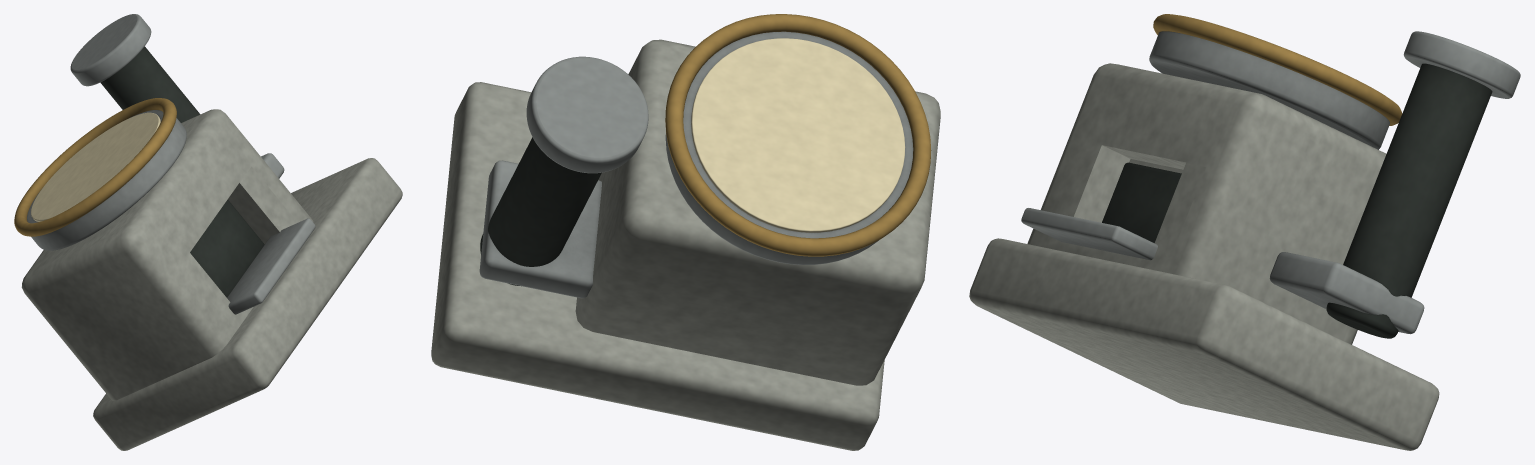
3 views of the same model, side by side, from view 1: azimuth 30°, elevation 25°; view 2: azimuth 150°, elevation 25°; view 3: azimuth 270°, elevation 25° (orthographic). The views are drawn at different scales.
Visible parts, largest first — view 1: Masonry calcifier plinth; view 2: Masonry calcifier plinth; view 3: Masonry calcifier plinth.
Boxes of the visible parts, <box> form: Masonry calcifier plinth: <box>14,14,402,450</box>; Masonry calcifier plinth: <box>431,14,940,450</box>; Masonry calcifier plinth: <box>969,14,1520,450</box>.
Bounding box in the file's own units: 1.59 × 1.4 × 1.6.
Materials: 1 (1 with a texture image).
